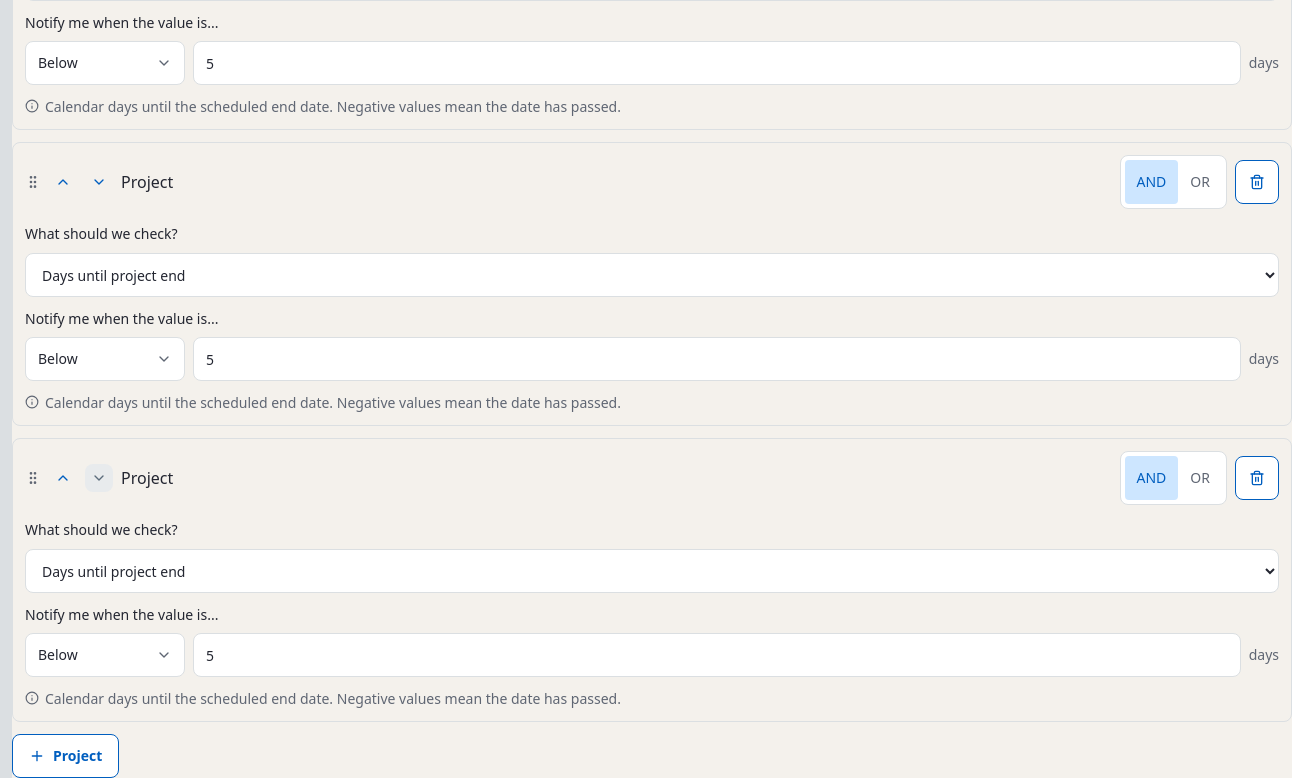
Test: ConditionBuilder condition cap › adds a default condition on the first metric option and stops at 32
(page scrolled)
Step 1. Click the button with aria-label "Add another Project condition" → [66, 756], box x1=12 y1=734 x2=119 y2=777
(page scrolled)
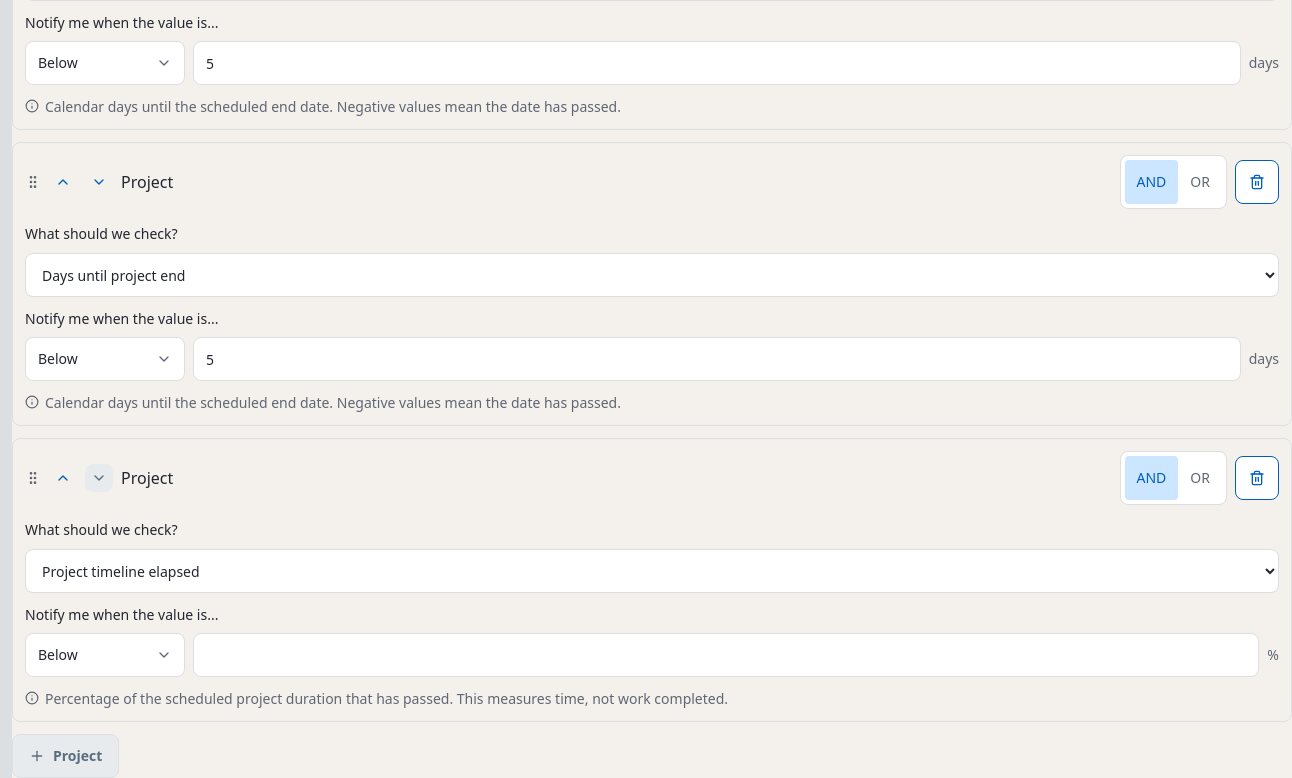
expect the button with aria-label "Add another Project condition" is disabled: met, box x1=12 y1=734 x2=119 y2=777
